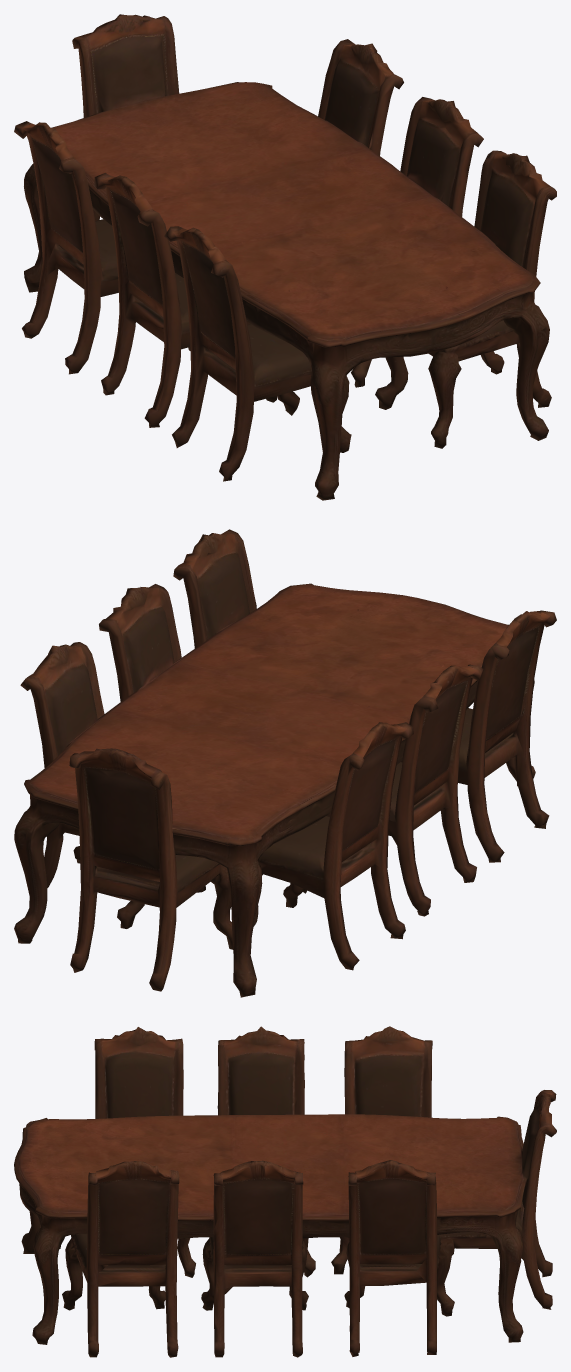
File: yemek-takimi.glb
3 views of the same model, one above another, from view 1: azimuth 30°, elevation 25°; view 2: azimuth 150°, elevation 25°; view 3: azimuth 270°, elevation 25° (orthographic). The views are drawn at different scales.
Parts seen in each view (by area): view 1: tripo_node_4f484b9c-7bc6-4622-85dd-3f6f0d92af15; view 2: tripo_node_4f484b9c-7bc6-4622-85dd-3f6f0d92af15; view 3: tripo_node_4f484b9c-7bc6-4622-85dd-3f6f0d92af15.
Boxes of the visible parts, x1,y1,x2,y2 form: tripo_node_4f484b9c-7bc6-4622-85dd-3f6f0d92af15: (14, 14, 556, 500); tripo_node_4f484b9c-7bc6-4622-85dd-3f6f0d92af15: (14, 529, 556, 997); tripo_node_4f484b9c-7bc6-4622-85dd-3f6f0d92af15: (14, 1026, 556, 1357).
Size of the model in its own units: 0.6193 by 0.4036 by 1.
Materials: 1 (1 with a texture image).
